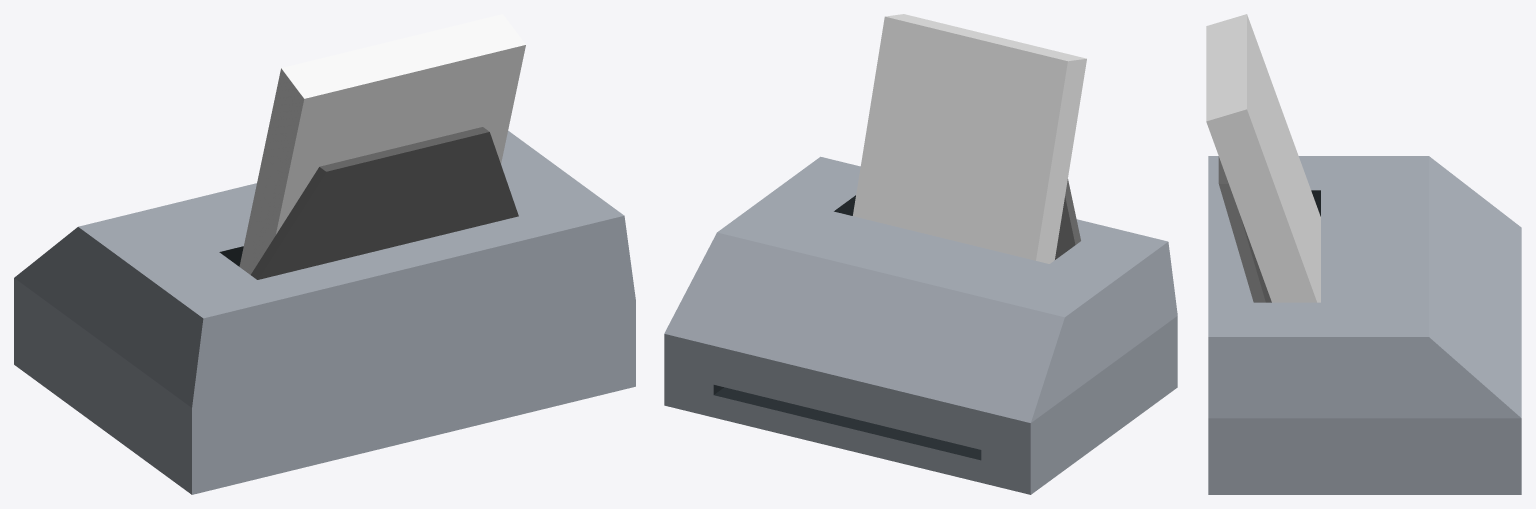
File: printer.fbx
The picture shows the model from 3 angles, left to right: view 1: azimuth 30°, elevation 25°; view 2: azimuth 150°, elevation 25°; view 3: azimuth 270°, elevation 25°; orthographic projection. The views are drawn at different scales.
Visible parts, largest first — view 1: Cube, Cube.001; view 2: Cube, Cube.001; view 3: Cube, Cube.001.
Part boxes in pixels (x1=…): Cube: x1=14, y1=127, x2=635, y2=494; Cube.001: x1=239, y1=14, x2=525, y2=274; Cube: x1=664, y1=156, x2=1177, y2=494; Cube.001: x1=853, y1=14, x2=1086, y2=263; Cube: x1=1208, y1=156, x2=1521, y2=494; Cube.001: x1=1206, y1=14, x2=1320, y2=302.
Size of the model in its own units: 2.88 by 2.38 by 2.01.
